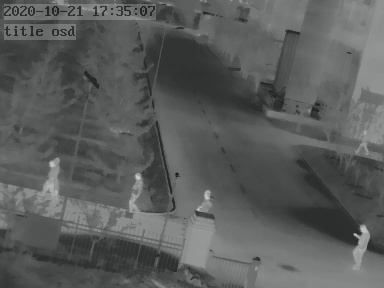person: (127, 169, 144, 222), (352, 221, 370, 266), (43, 157, 61, 198), (355, 126, 371, 156), (198, 189, 213, 213)
